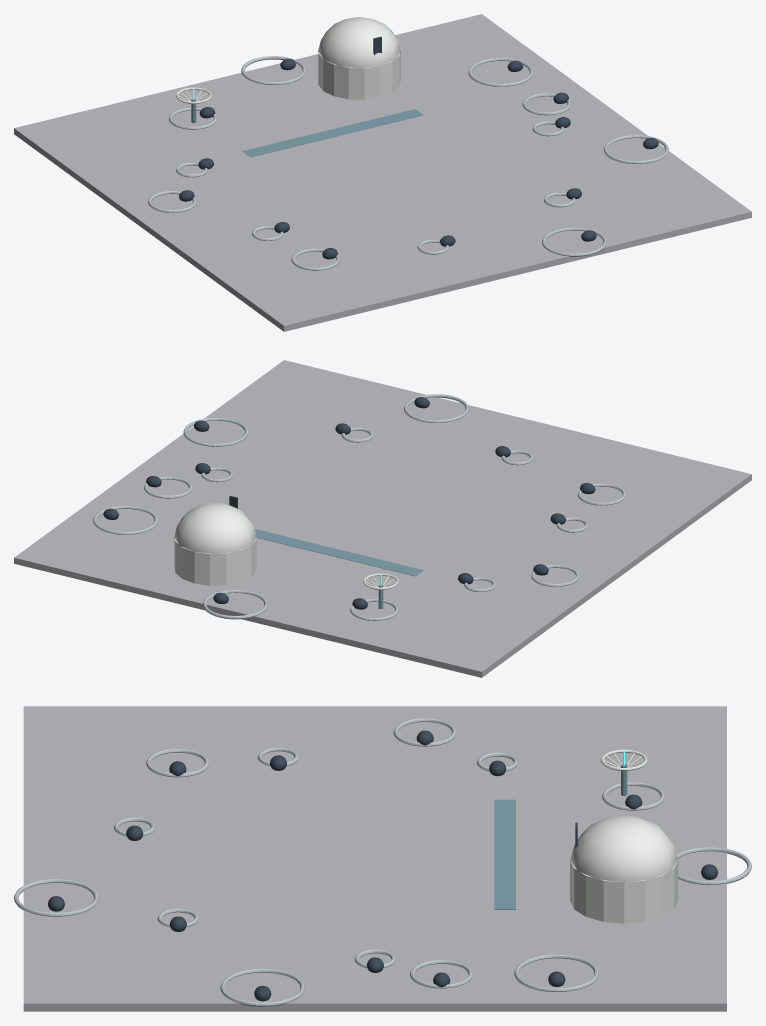
Rendered from journey_observatory.glb.
The picture shows the model from 3 angles, top to bottom: view 1: azimuth 30°, elevation 25°; view 2: azimuth 150°, elevation 25°; view 3: azimuth 270°, elevation 25°; orthographic projection. The views are drawn at different scales.
Visible parts, largest first — view 1: Scenery_Journey Regolith.002, Scenery_Journey Ivory.008, Scenery_Journey Limestone.005, Scenery_Journey Graphite.006, Scenery_Journey Steel.007; view 2: Scenery_Journey Regolith.002, Scenery_Journey Ivory.008, Scenery_Journey Limestone.005, Scenery_Journey Graphite.006, Scenery_Journey Steel.007; view 3: Scenery_Journey Regolith.002, Scenery_Journey Ivory.008, Scenery_Journey Limestone.005, Scenery_Journey Graphite.006, Scenery_Journey Steel.007.
Part boxes in pixels (<box>): Scenery_Journey Regolith.002: <box>14,14,751,331</box>; Scenery_Journey Ivory.008: <box>176,17,400,103</box>; Scenery_Journey Limestone.005: <box>148,56,668,270</box>; Scenery_Journey Graphite.006: <box>179,36,658,259</box>; Scenery_Journey Steel.007: <box>191,98,423,157</box>; Scenery_Journey Regolith.002: <box>14,360,751,677</box>; Scenery_Journey Ivory.008: <box>174,503,398,589</box>; Scenery_Journey Limestone.005: <box>93,394,626,620</box>; Scenery_Journey Graphite.006: <box>103,397,595,609</box>; Scenery_Journey Steel.007: <box>254,529,423,608</box>; Scenery_Journey Regolith.002: <box>23,706,726,1011</box>; Scenery_Journey Ivory.008: <box>570,749,678,923</box>; Scenery_Journey Limestone.005: <box>14,718,751,1006</box>; Scenery_Journey Graphite.006: <box>48,730,718,1001</box>; Scenery_Journey Steel.007: <box>494,764,627,909</box>.
Size of the model in its own units: 65.62 by 8.9 by 68.21.
